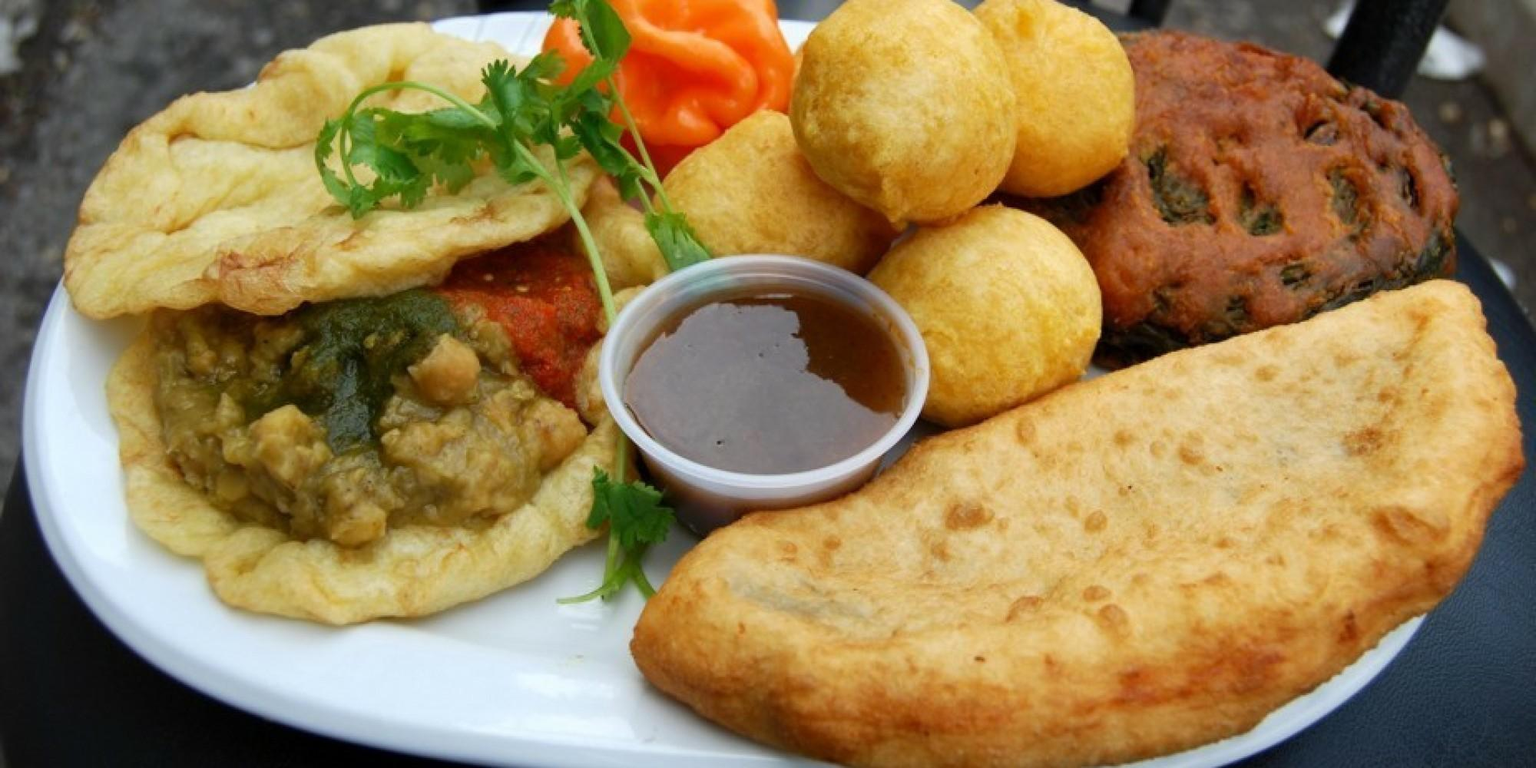Bhatura: (628, 282, 1522, 766)
